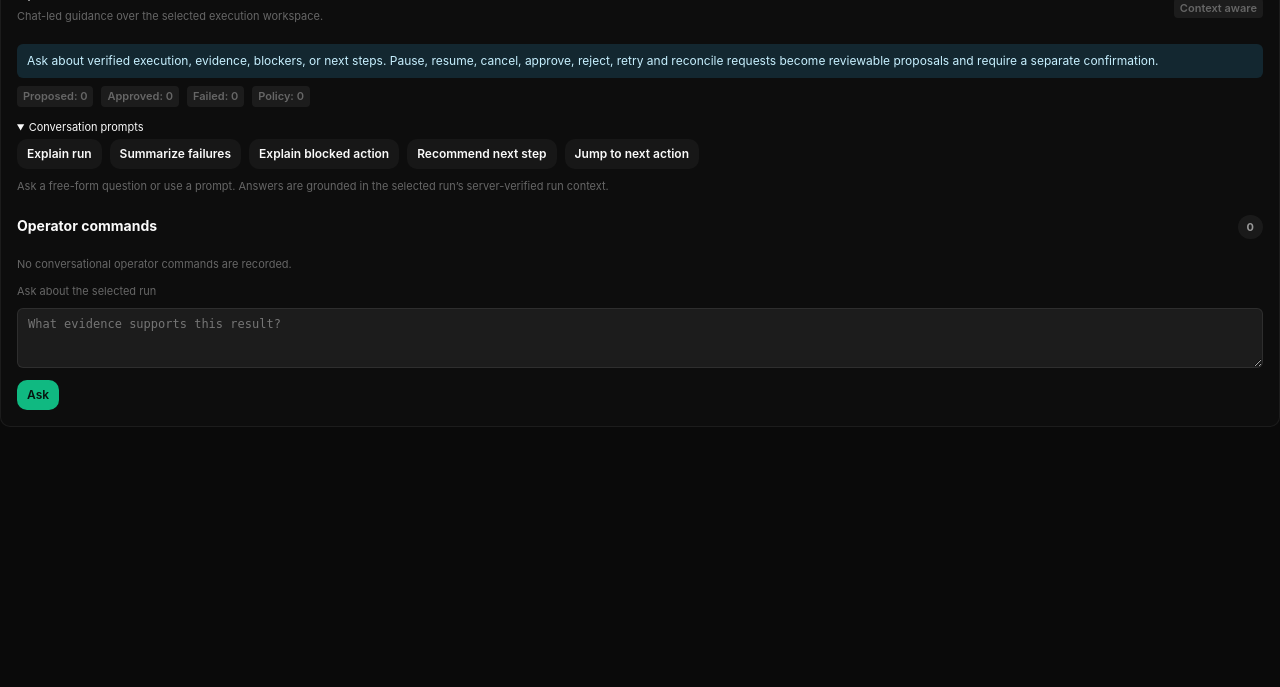
Test: OperatorConsoleChat › requires exact cancel confirmation and shows the terminal receipt
Type "Cancel this run" into the text box labelled "Ask about the selected run".
click(640, 338); type("Cancel this run")  # box [17,308,1263,368]
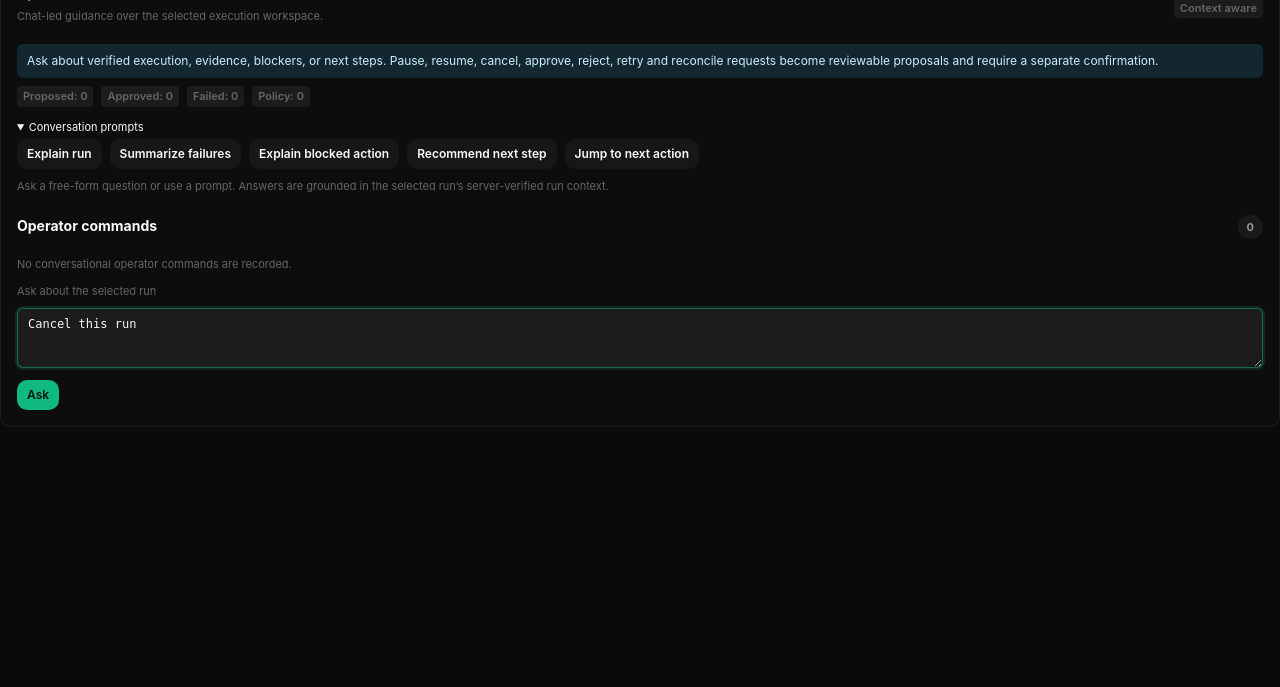
Click the button "Ask".
click(38, 395)  # box [17,380,59,410]
(page scrolled)
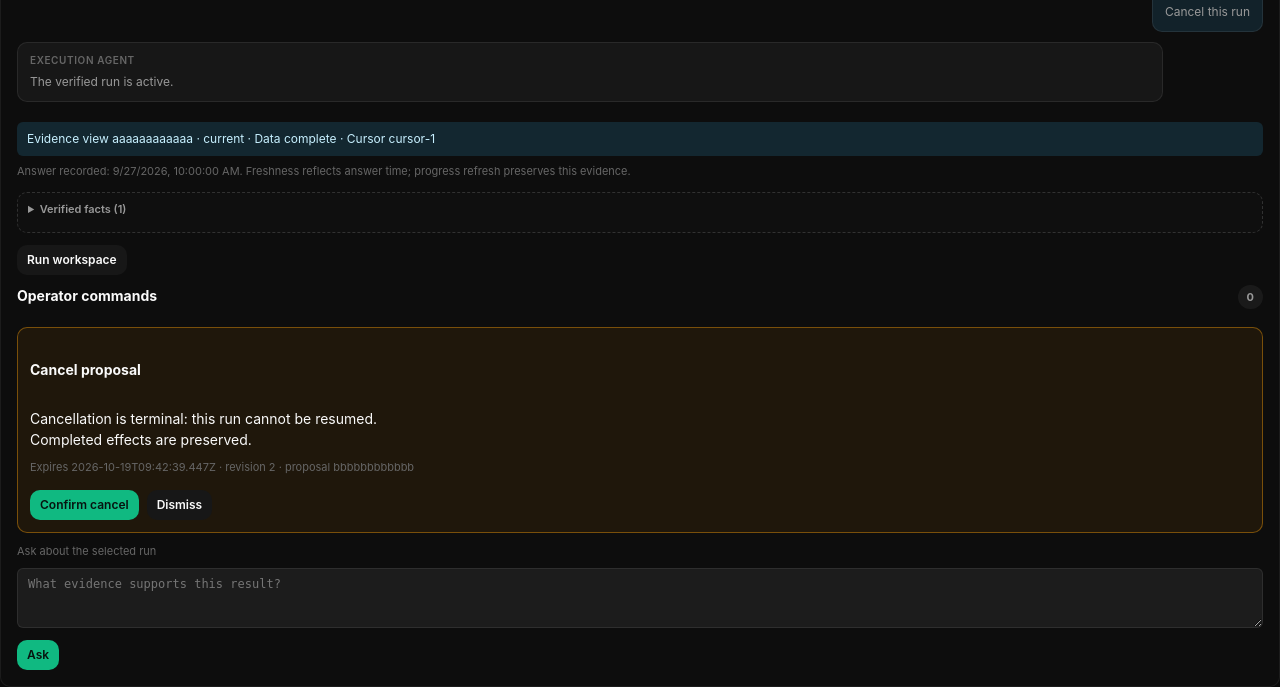
Expected: the element "Cancel proposal" is shown, [17,327,1263,533]
Expected: the list item "Cancellation is terminal: this run cannot be resumed." is shown, [30,410,377,427]
Click the button "Confirm cancel".
click(84, 505)  # box [30,490,139,520]
(page scrolled)
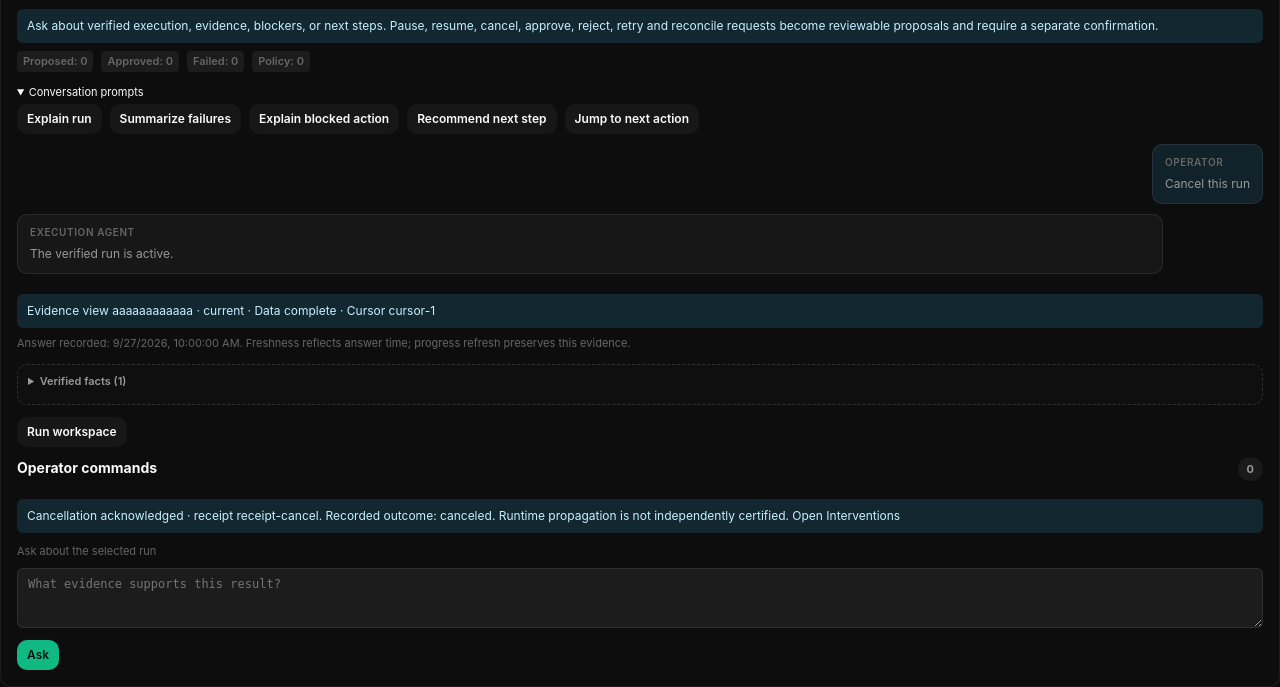
Expected: the text "Recorded outcome: canceled" is shown, [17,499,1263,533]
